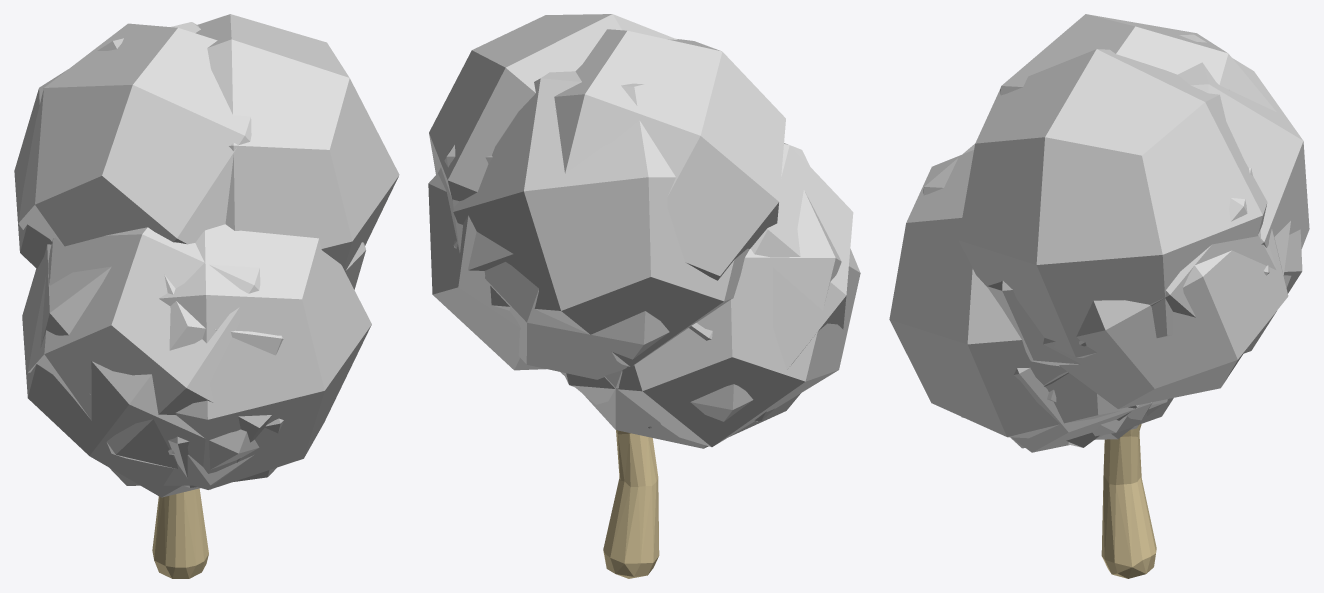
Rendered from tree9.fbx.
The picture shows the model from 3 angles, left to right: view 1: azimuth 30°, elevation 25°; view 2: azimuth 150°, elevation 25°; view 3: azimuth 270°, elevation 25°; orthographic projection.
Visible parts, largest first — view 1: Cube.004, Cube; view 2: Cube.004, Cube; view 3: Cube.004, Cube.
Part boxes in pixels (x1,y1,x2,y2): Cube.004: [14, 14, 399, 497]; Cube: [152, 488, 208, 578]; Cube.004: [428, 14, 860, 448]; Cube: [603, 430, 659, 578]; Cube.004: [889, 14, 1309, 452]; Cube: [1101, 424, 1156, 578].
Bounding box in the file's own units: 618 × 894 × 619.
